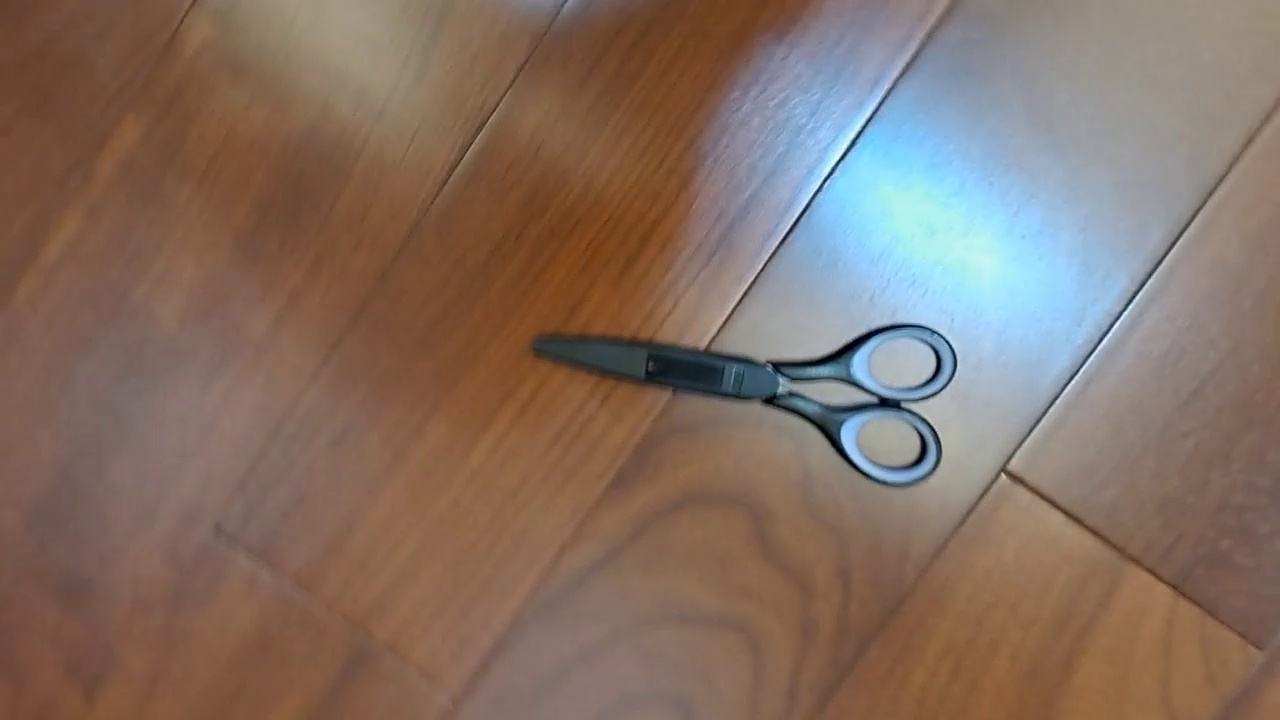scissors: (532, 323, 958, 487)
